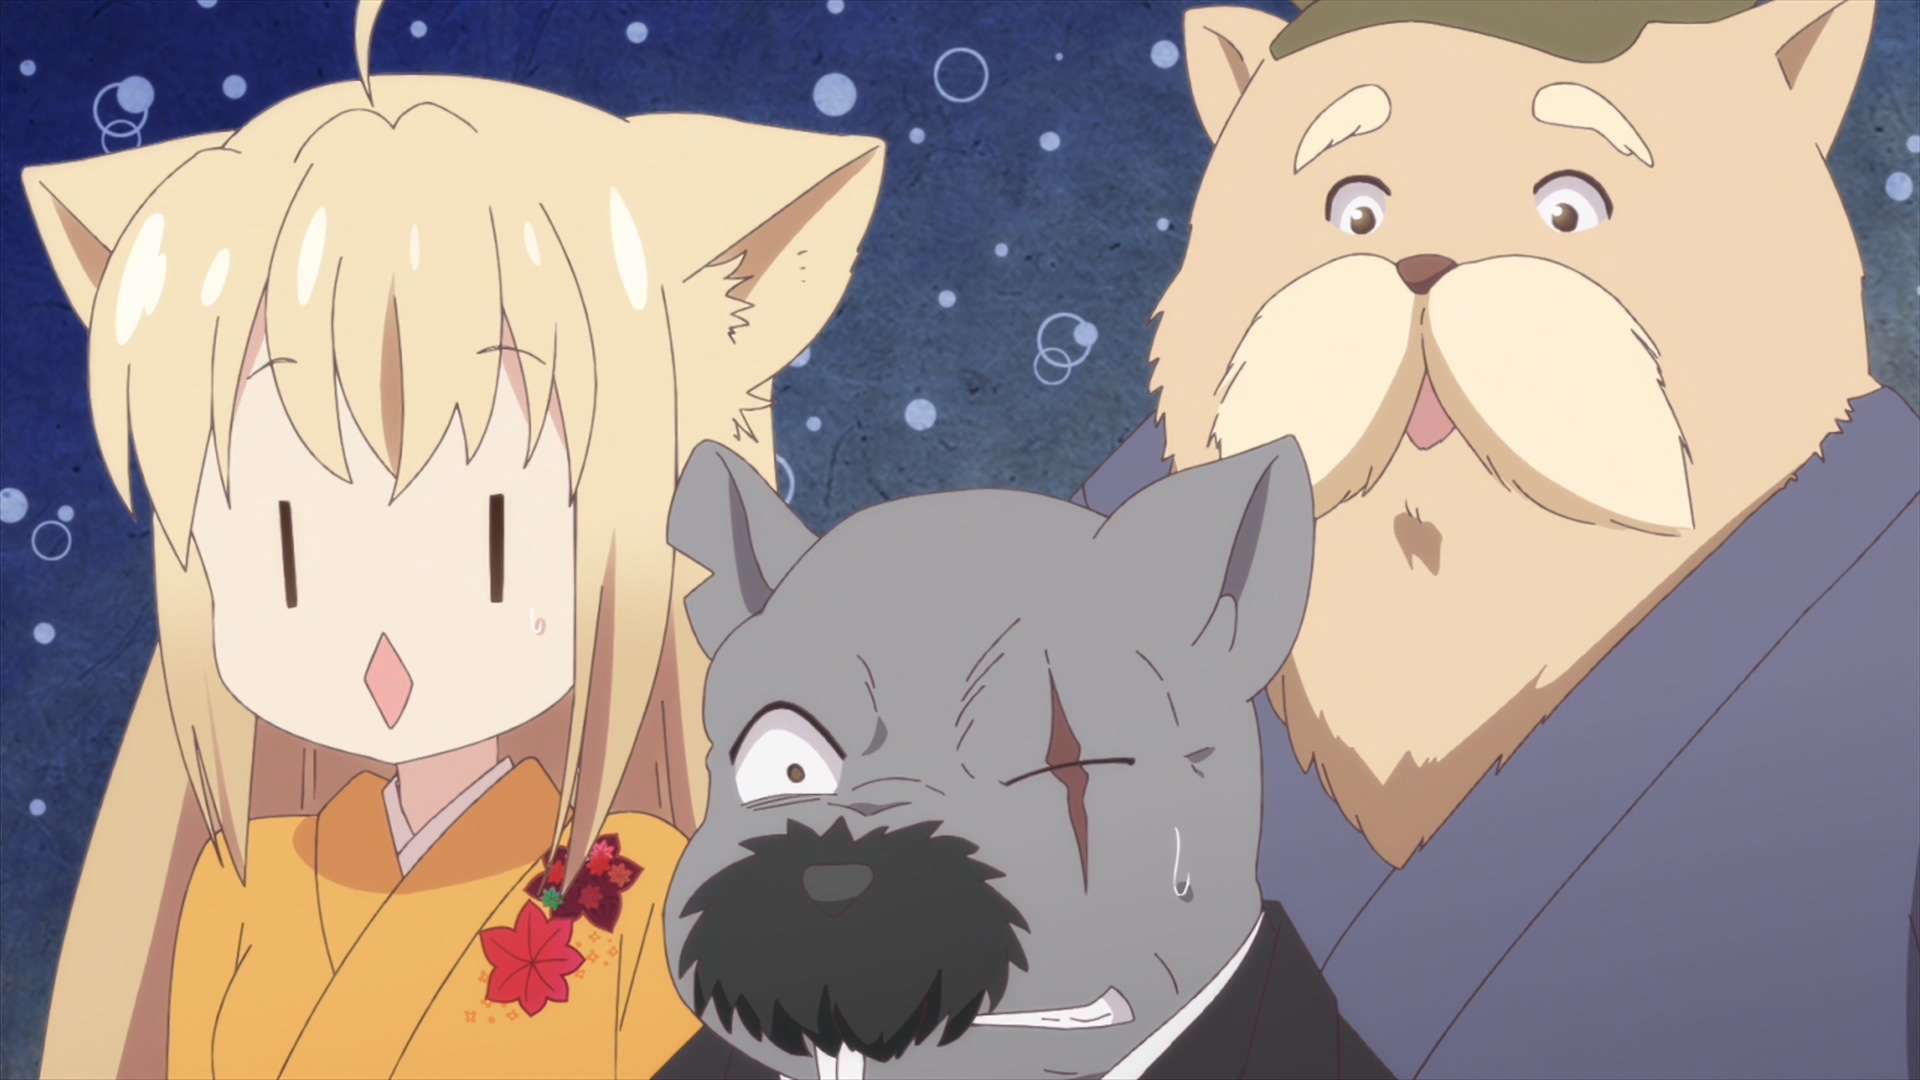其他: (641, 435, 1396, 1080)
柚: (20, 1, 884, 1080)
药店老板: (1060, 1, 1920, 1080)
